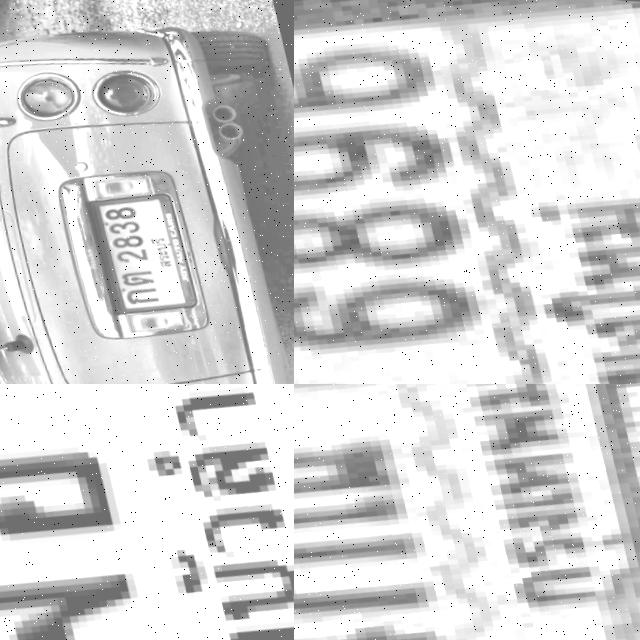license-plate: (294, 0, 640, 384), (294, 384, 640, 640), (0, 384, 294, 640), (78, 181, 191, 312)
